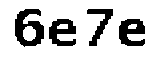6: (12, 6, 45, 51)
7: (85, 4, 115, 48)
e: (115, 15, 152, 54), (49, 15, 82, 51)
